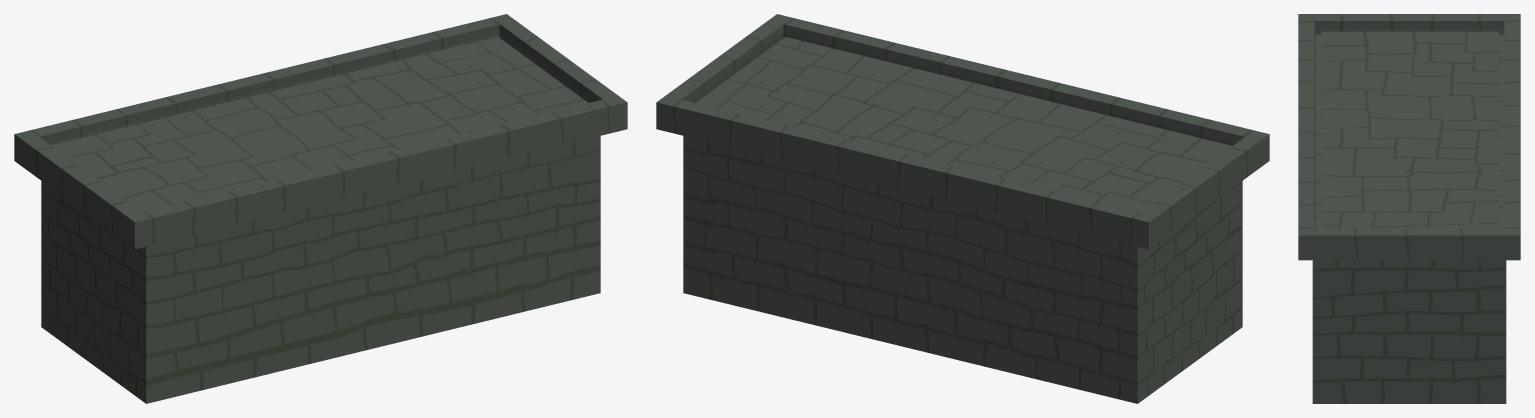
Rendered from altar.fbx.
The picture shows the model from 3 angles, left to right: view 1: azimuth 30°, elevation 25°; view 2: azimuth 150°, elevation 25°; view 3: azimuth 270°, elevation 25°; orthographic projection. The views are drawn at different scales.
Visible parts, largest first — view 1: Cube; view 2: Cube; view 3: Cube.
Boxes of the visible parts, <box> form: Cube: <box>14,14,627,403</box>; Cube: <box>656,14,1269,403</box>; Cube: <box>1298,14,1520,403</box>.
Bounding box in the file's own units: 542 × 202 × 230.
Materials: 1 (1 with a texture image).
